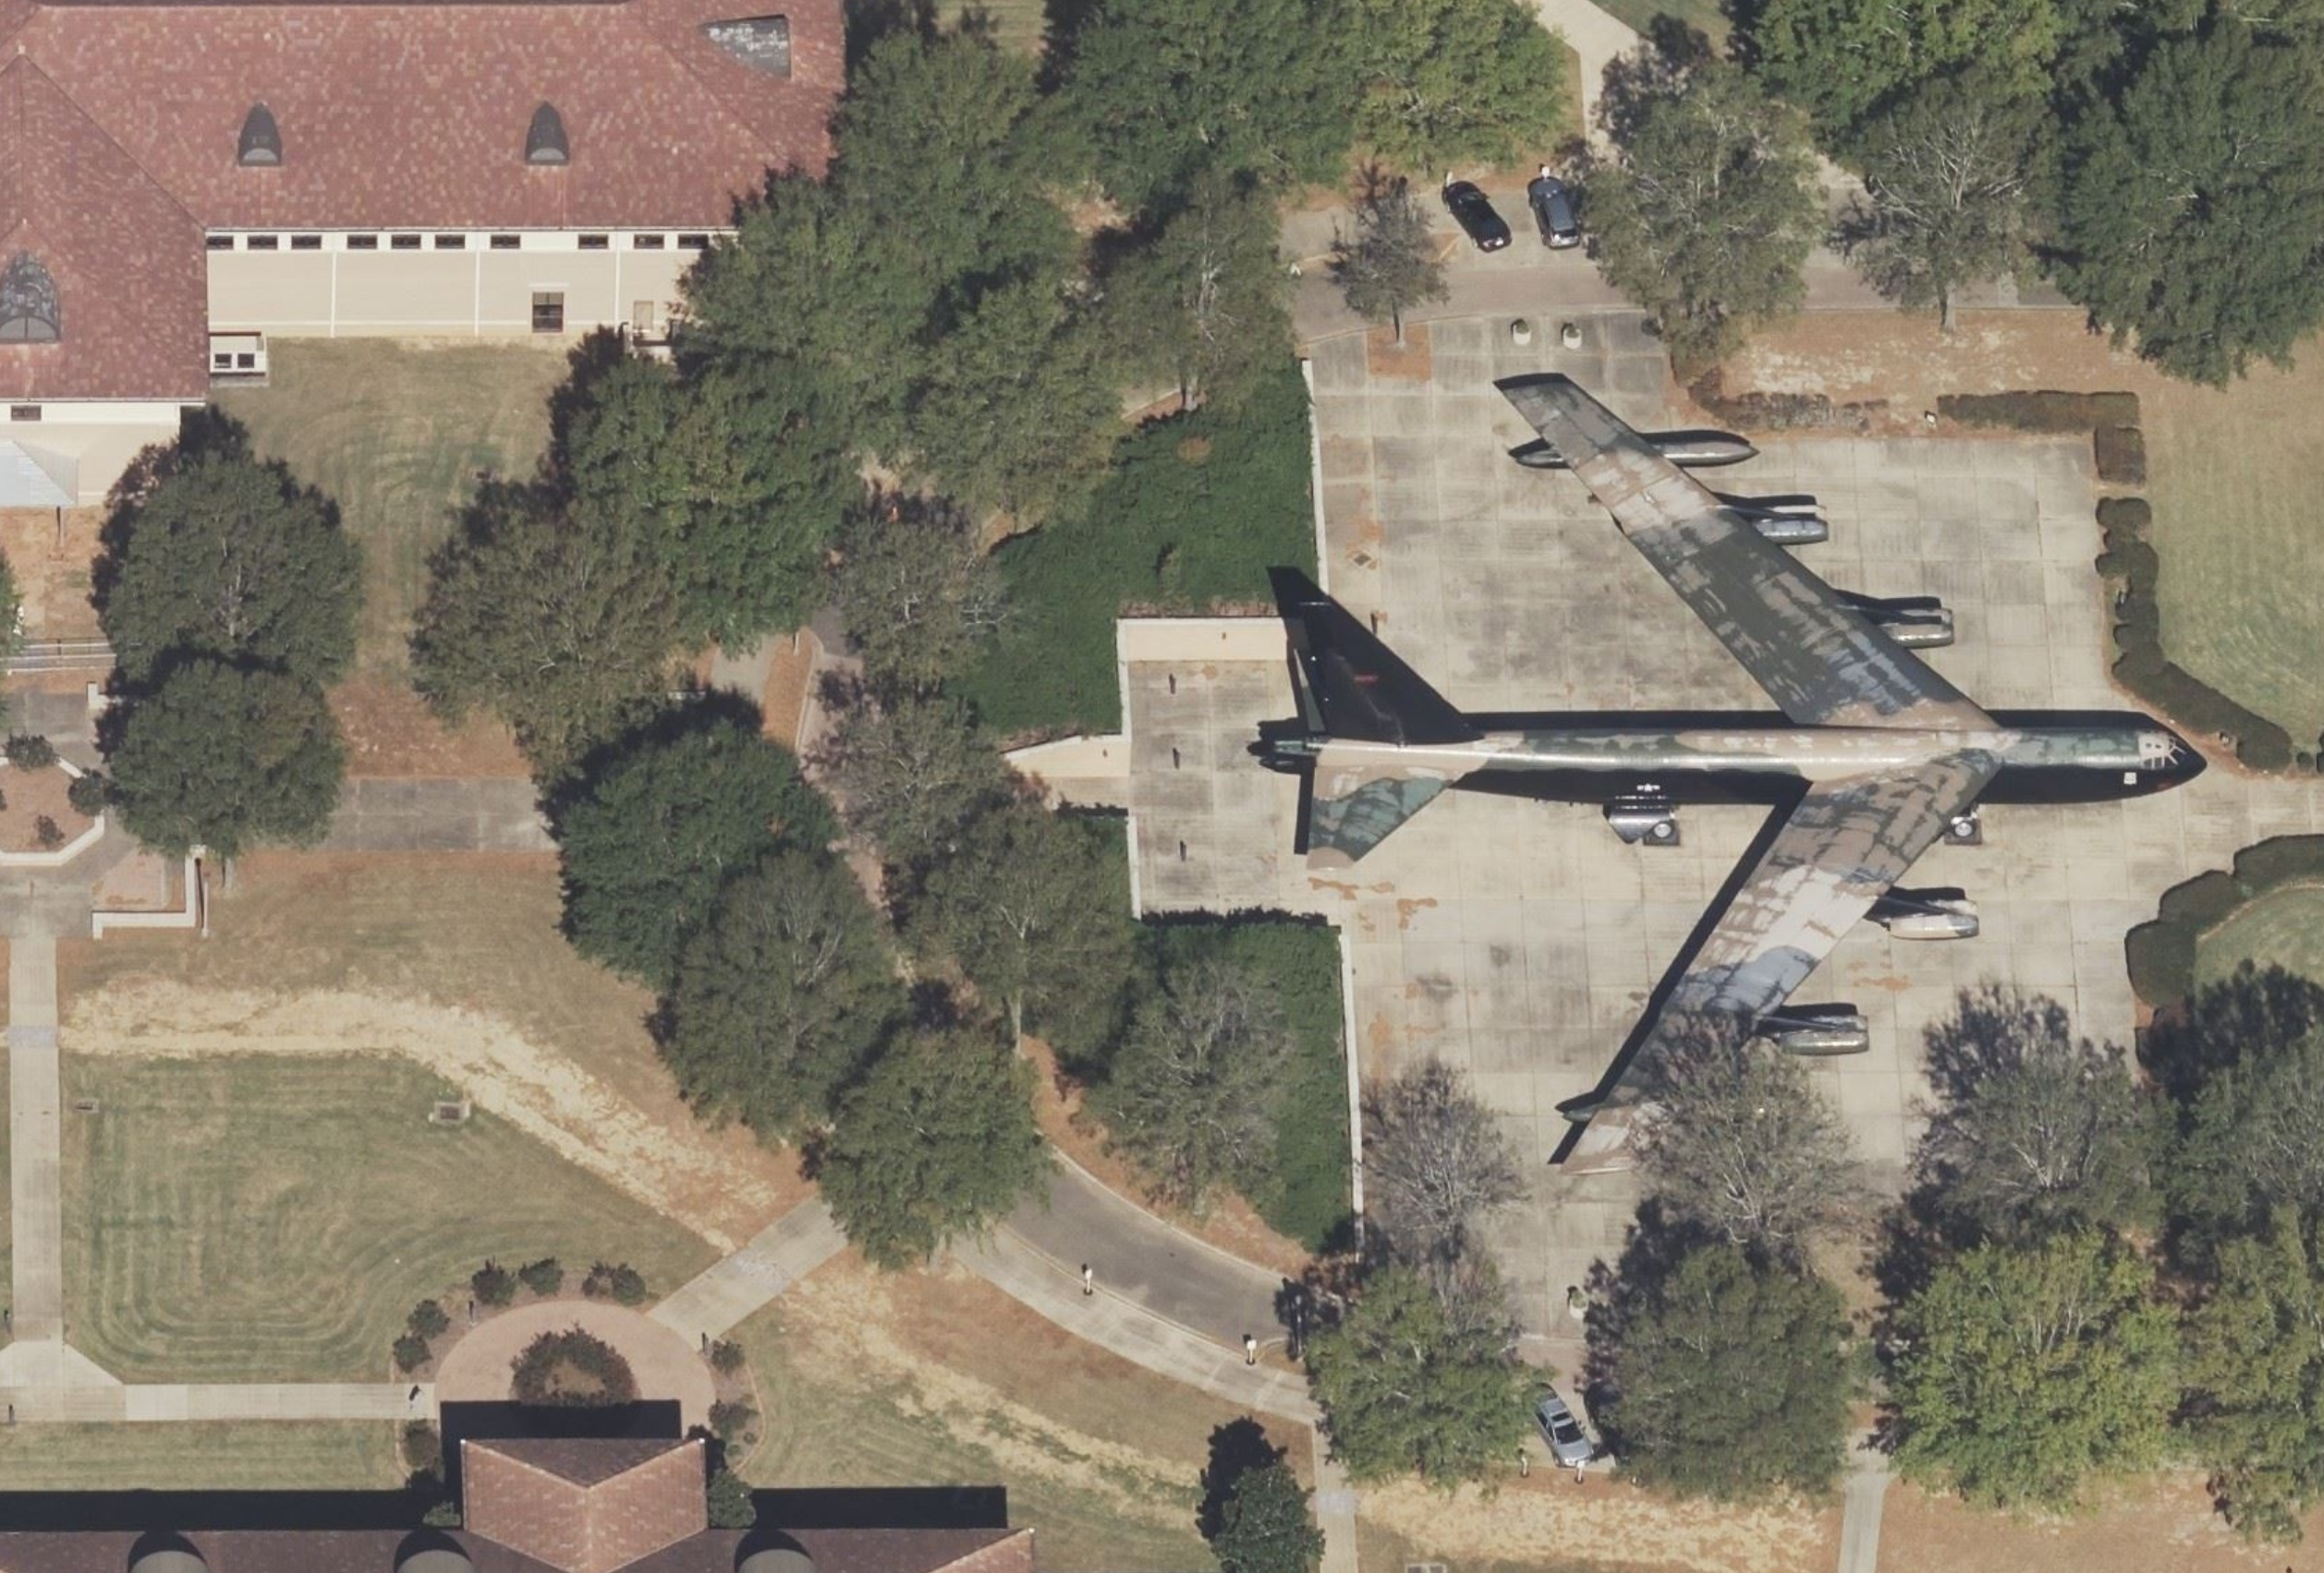B52: (1266, 379, 2206, 1176)
